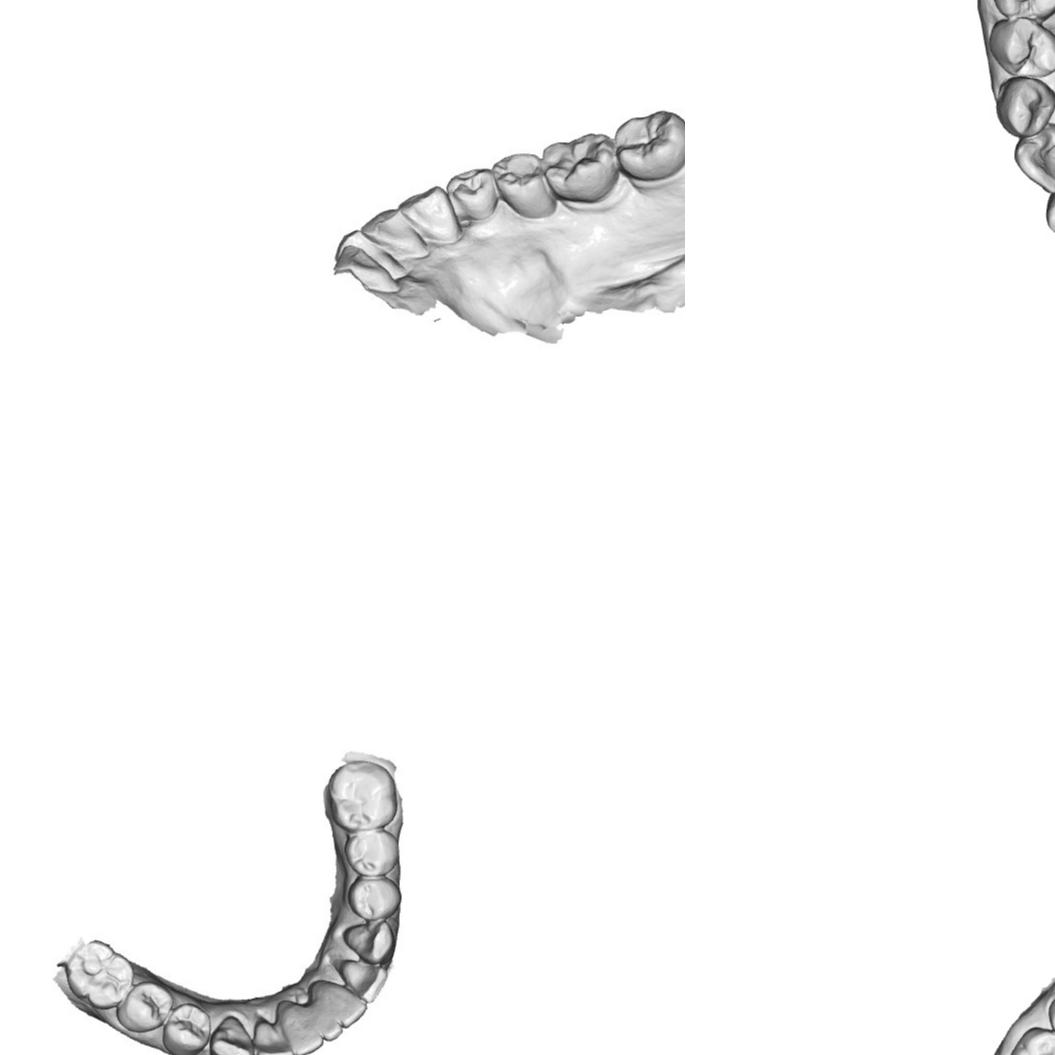canine: (994, 77, 1055, 139), (342, 920, 396, 965), (209, 1013, 255, 1055)
incisor: (359, 208, 430, 260), (396, 183, 459, 241), (1013, 120, 1055, 196), (309, 980, 367, 1028), (276, 999, 322, 1055), (340, 958, 388, 1003), (252, 1016, 295, 1055), (320, 1020, 344, 1042)
molar: (545, 135, 620, 205), (327, 759, 397, 831), (64, 938, 134, 1010), (620, 111, 685, 172), (1006, 1025, 1055, 1055)
premolar: (496, 148, 563, 230), (986, 17, 1055, 79), (115, 980, 174, 1033), (161, 1002, 211, 1055), (344, 830, 398, 878), (346, 877, 402, 921), (453, 166, 498, 217), (989, 0, 1055, 21)
